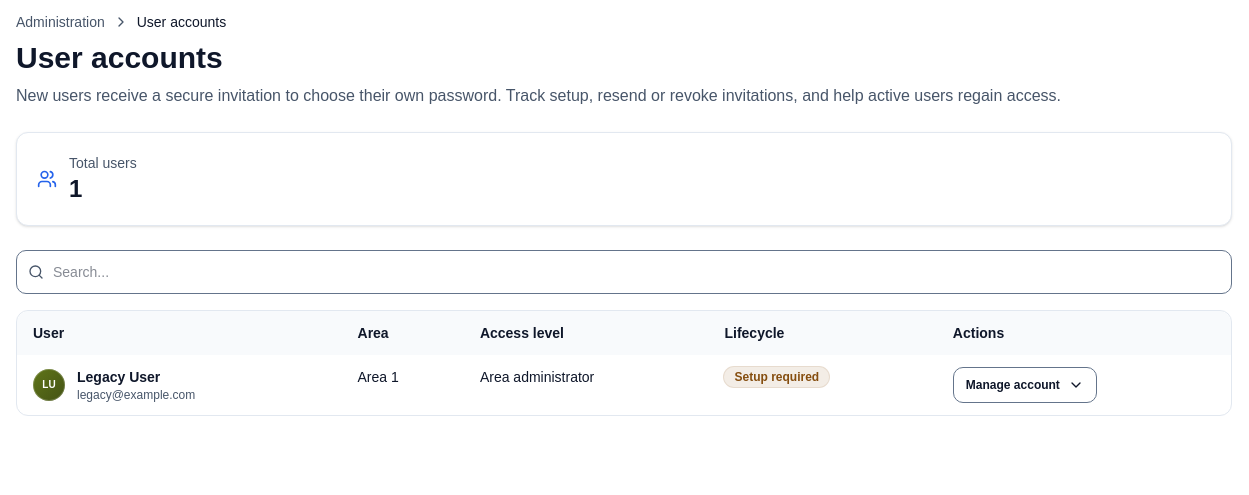
Test: administrator account management › offers an invitation for a setup-required legacy account without an invitation
This screenshot has width=1249, height=495.
Expected: the text "Setup required" is shown, [724,367,829,387]
What coordinates should you click on to do the following:
click the button with aria-label "Manage account for Legacy User"
I would click on:
 (1025, 385)
Its box is [953,367,1097,403].
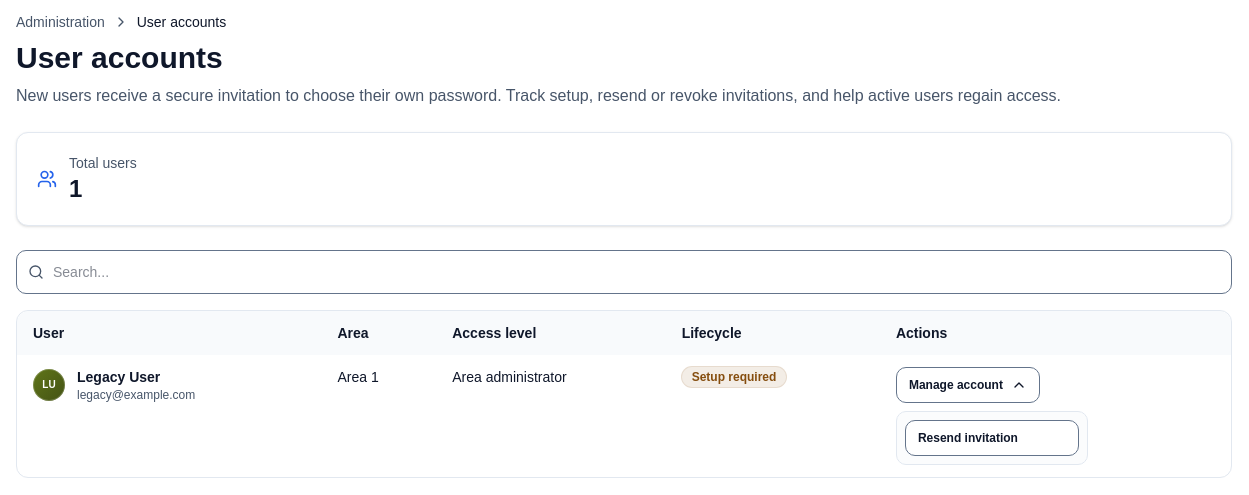
Result: the button "Resend invitation" is shown at [905,420,1079,456]
